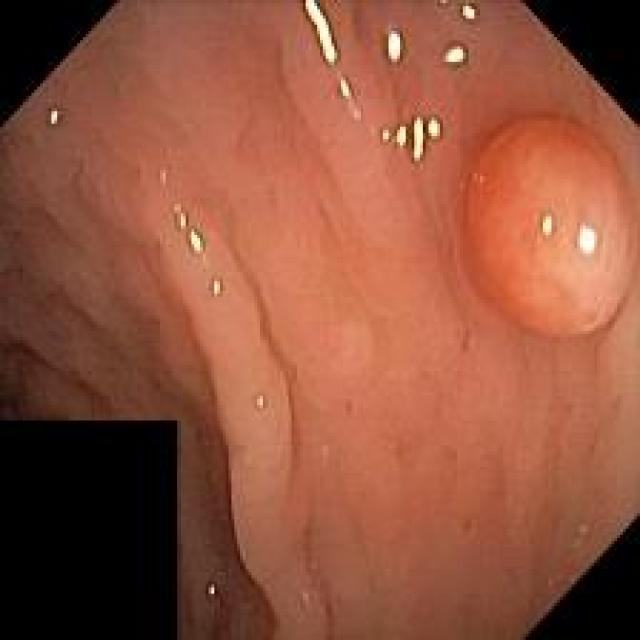Polyps: (468, 119, 635, 338)
